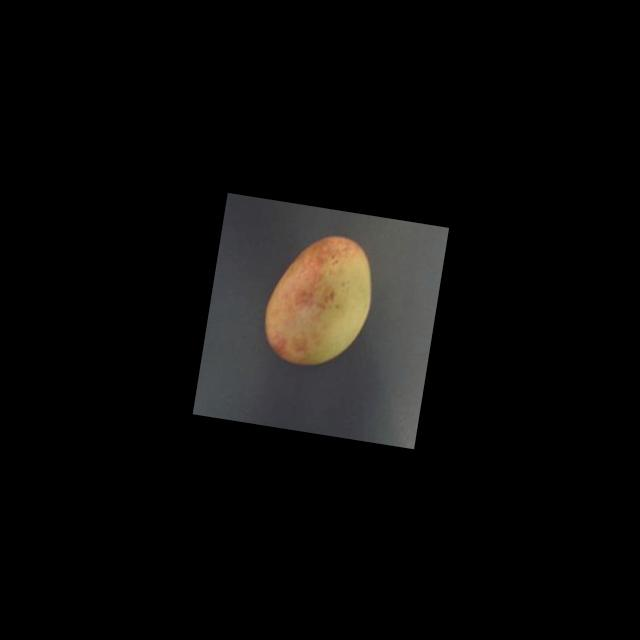Mango: (256, 225, 380, 372)
